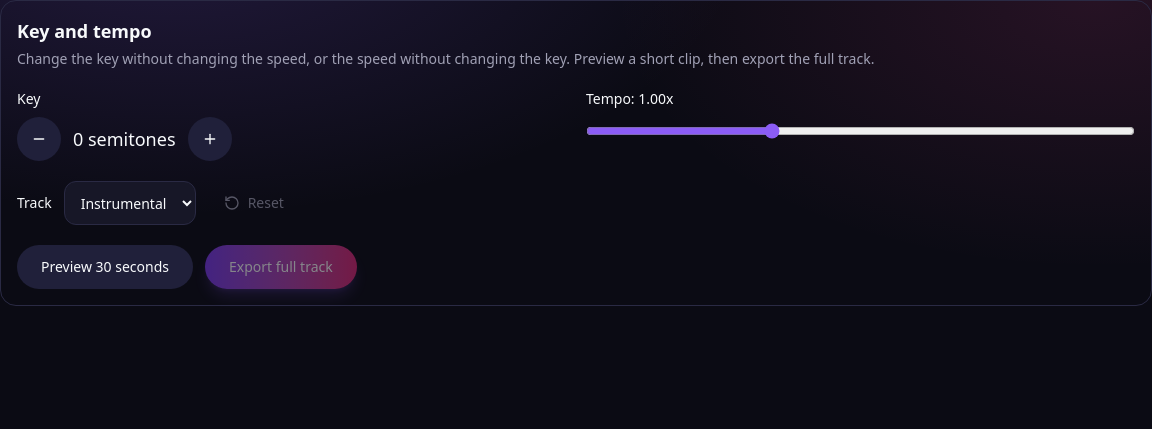
Test: KeyTempoPanel › stops polling and frees the controls when the export disappears
The image size is (1152, 429).
Click the button "Preview 30 seconds".
click(105, 267)  # box [17,245,193,289]
Wait 31500 ms
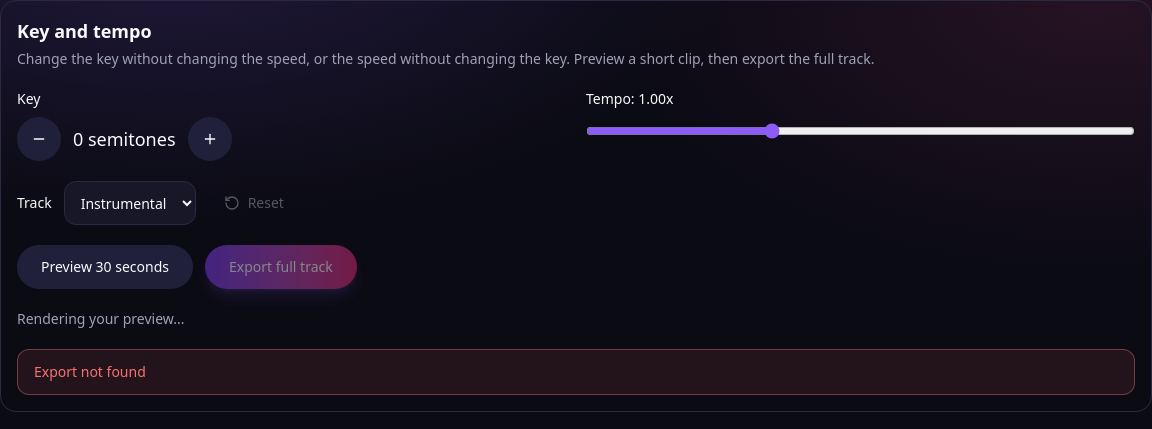
Result: the text "Export not found" is shown at [17,349,1135,395]
